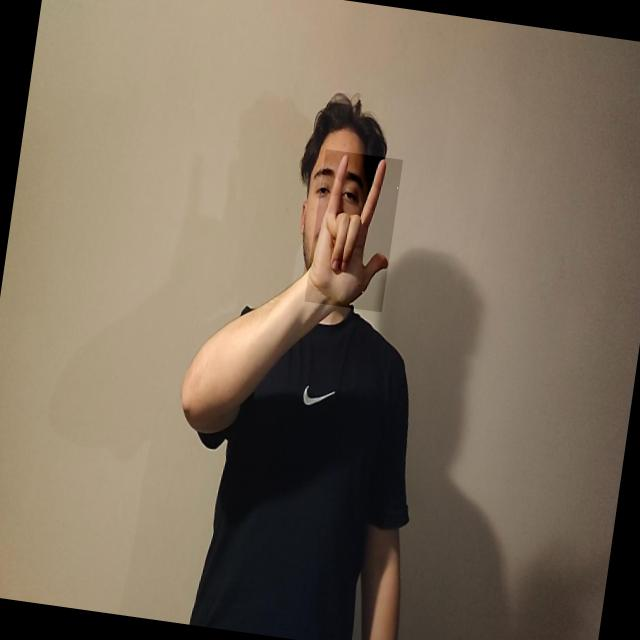iloveyou: (304, 150, 403, 312)
